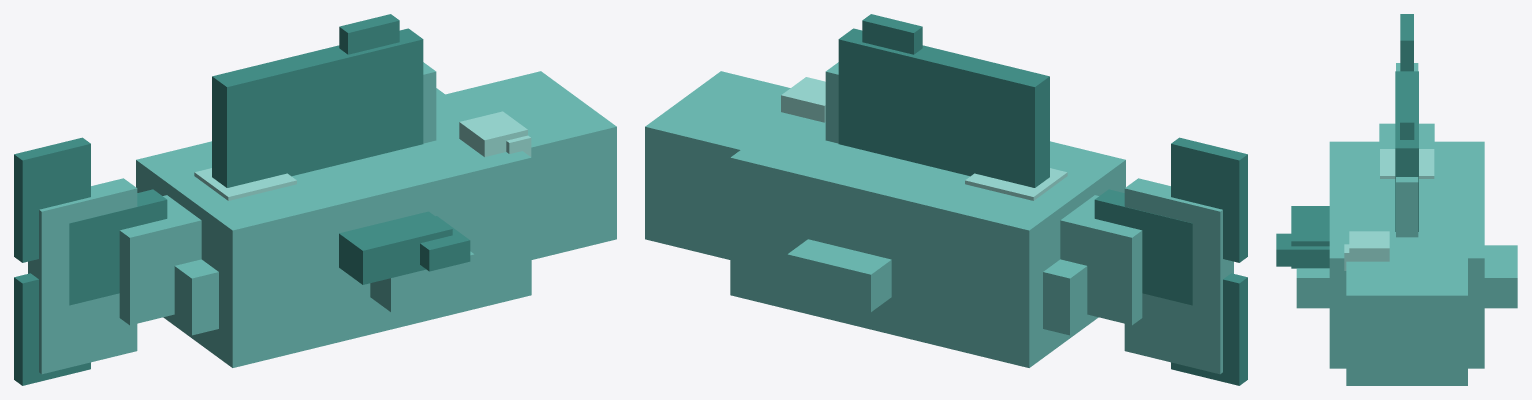
The model's file is fish_aurora_icefish.glb.
3 views of the same model, side by side, from view 1: azimuth 30°, elevation 25°; view 2: azimuth 150°, elevation 25°; view 3: azimuth 270°, elevation 25° (orthographic). The views are drawn at different scales.
Parts seen in each view (by area): view 1: FishArt_body, FishArt_dorsal, FishArt_tail, FishArt_pectoral, FishArt_eye, FishArt_specialty; view 2: FishArt_body, FishArt_dorsal, FishArt_tail, FishArt_eye, FishArt_specialty; view 3: FishArt_body, FishArt_pectoral, FishArt_dorsal, FishArt_eye, FishArt_specialty, FishArt_tail.
Boxes of the visible parts, x1,y1,x2,y2 form: FishArt_body: [28, 62, 616, 374]; FishArt_dorsal: [212, 14, 423, 187]; FishArt_tail: [14, 137, 167, 385]; FishArt_pectoral: [339, 211, 470, 284]; FishArt_eye: [459, 111, 531, 156]; FishArt_specialty: [194, 168, 296, 200]; FishArt_body: [645, 62, 1233, 374]; FishArt_dorsal: [838, 14, 1049, 187]; FishArt_tail: [1094, 137, 1247, 385]; FishArt_eye: [781, 77, 825, 122]; FishArt_specialty: [965, 168, 1067, 200]; FishArt_body: [1296, 63, 1517, 385]; FishArt_pectoral: [1276, 206, 1329, 268]; FishArt_dorsal: [1395, 71, 1418, 231]; FishArt_eye: [1344, 231, 1389, 270]; FishArt_specialty: [1380, 149, 1434, 178]; FishArt_tail: [1400, 14, 1413, 71].
Size of the model in its own units: 0.3091 by 0.1442 by 0.1439.
